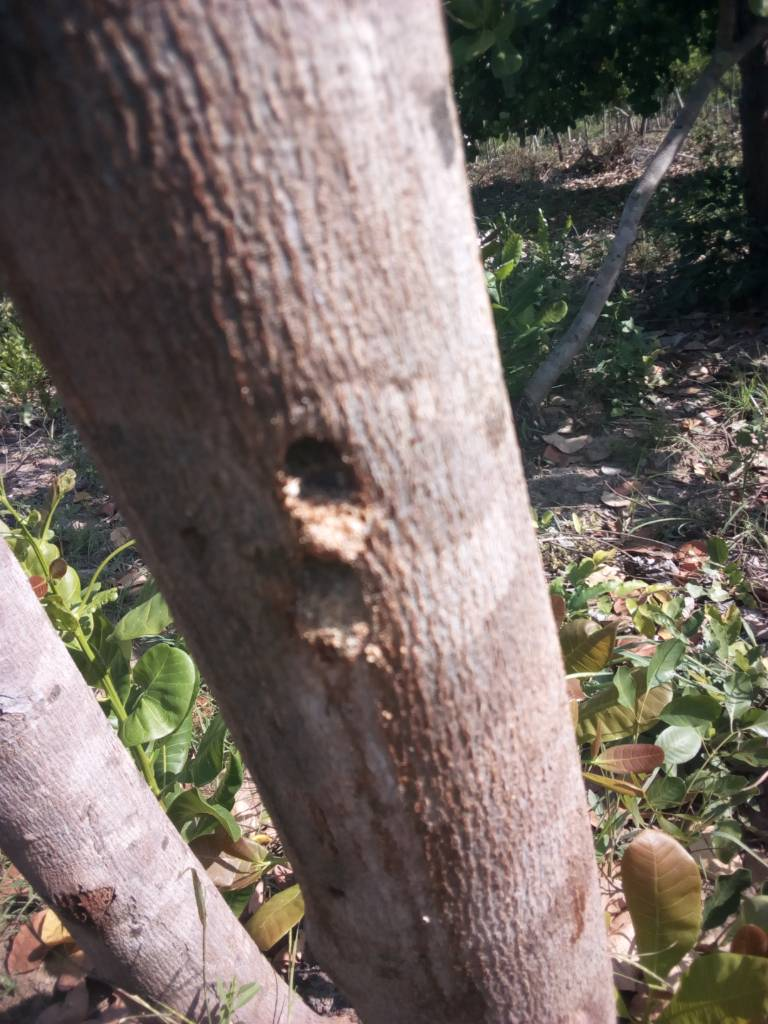Apate terebrans: (243, 425, 428, 536)
